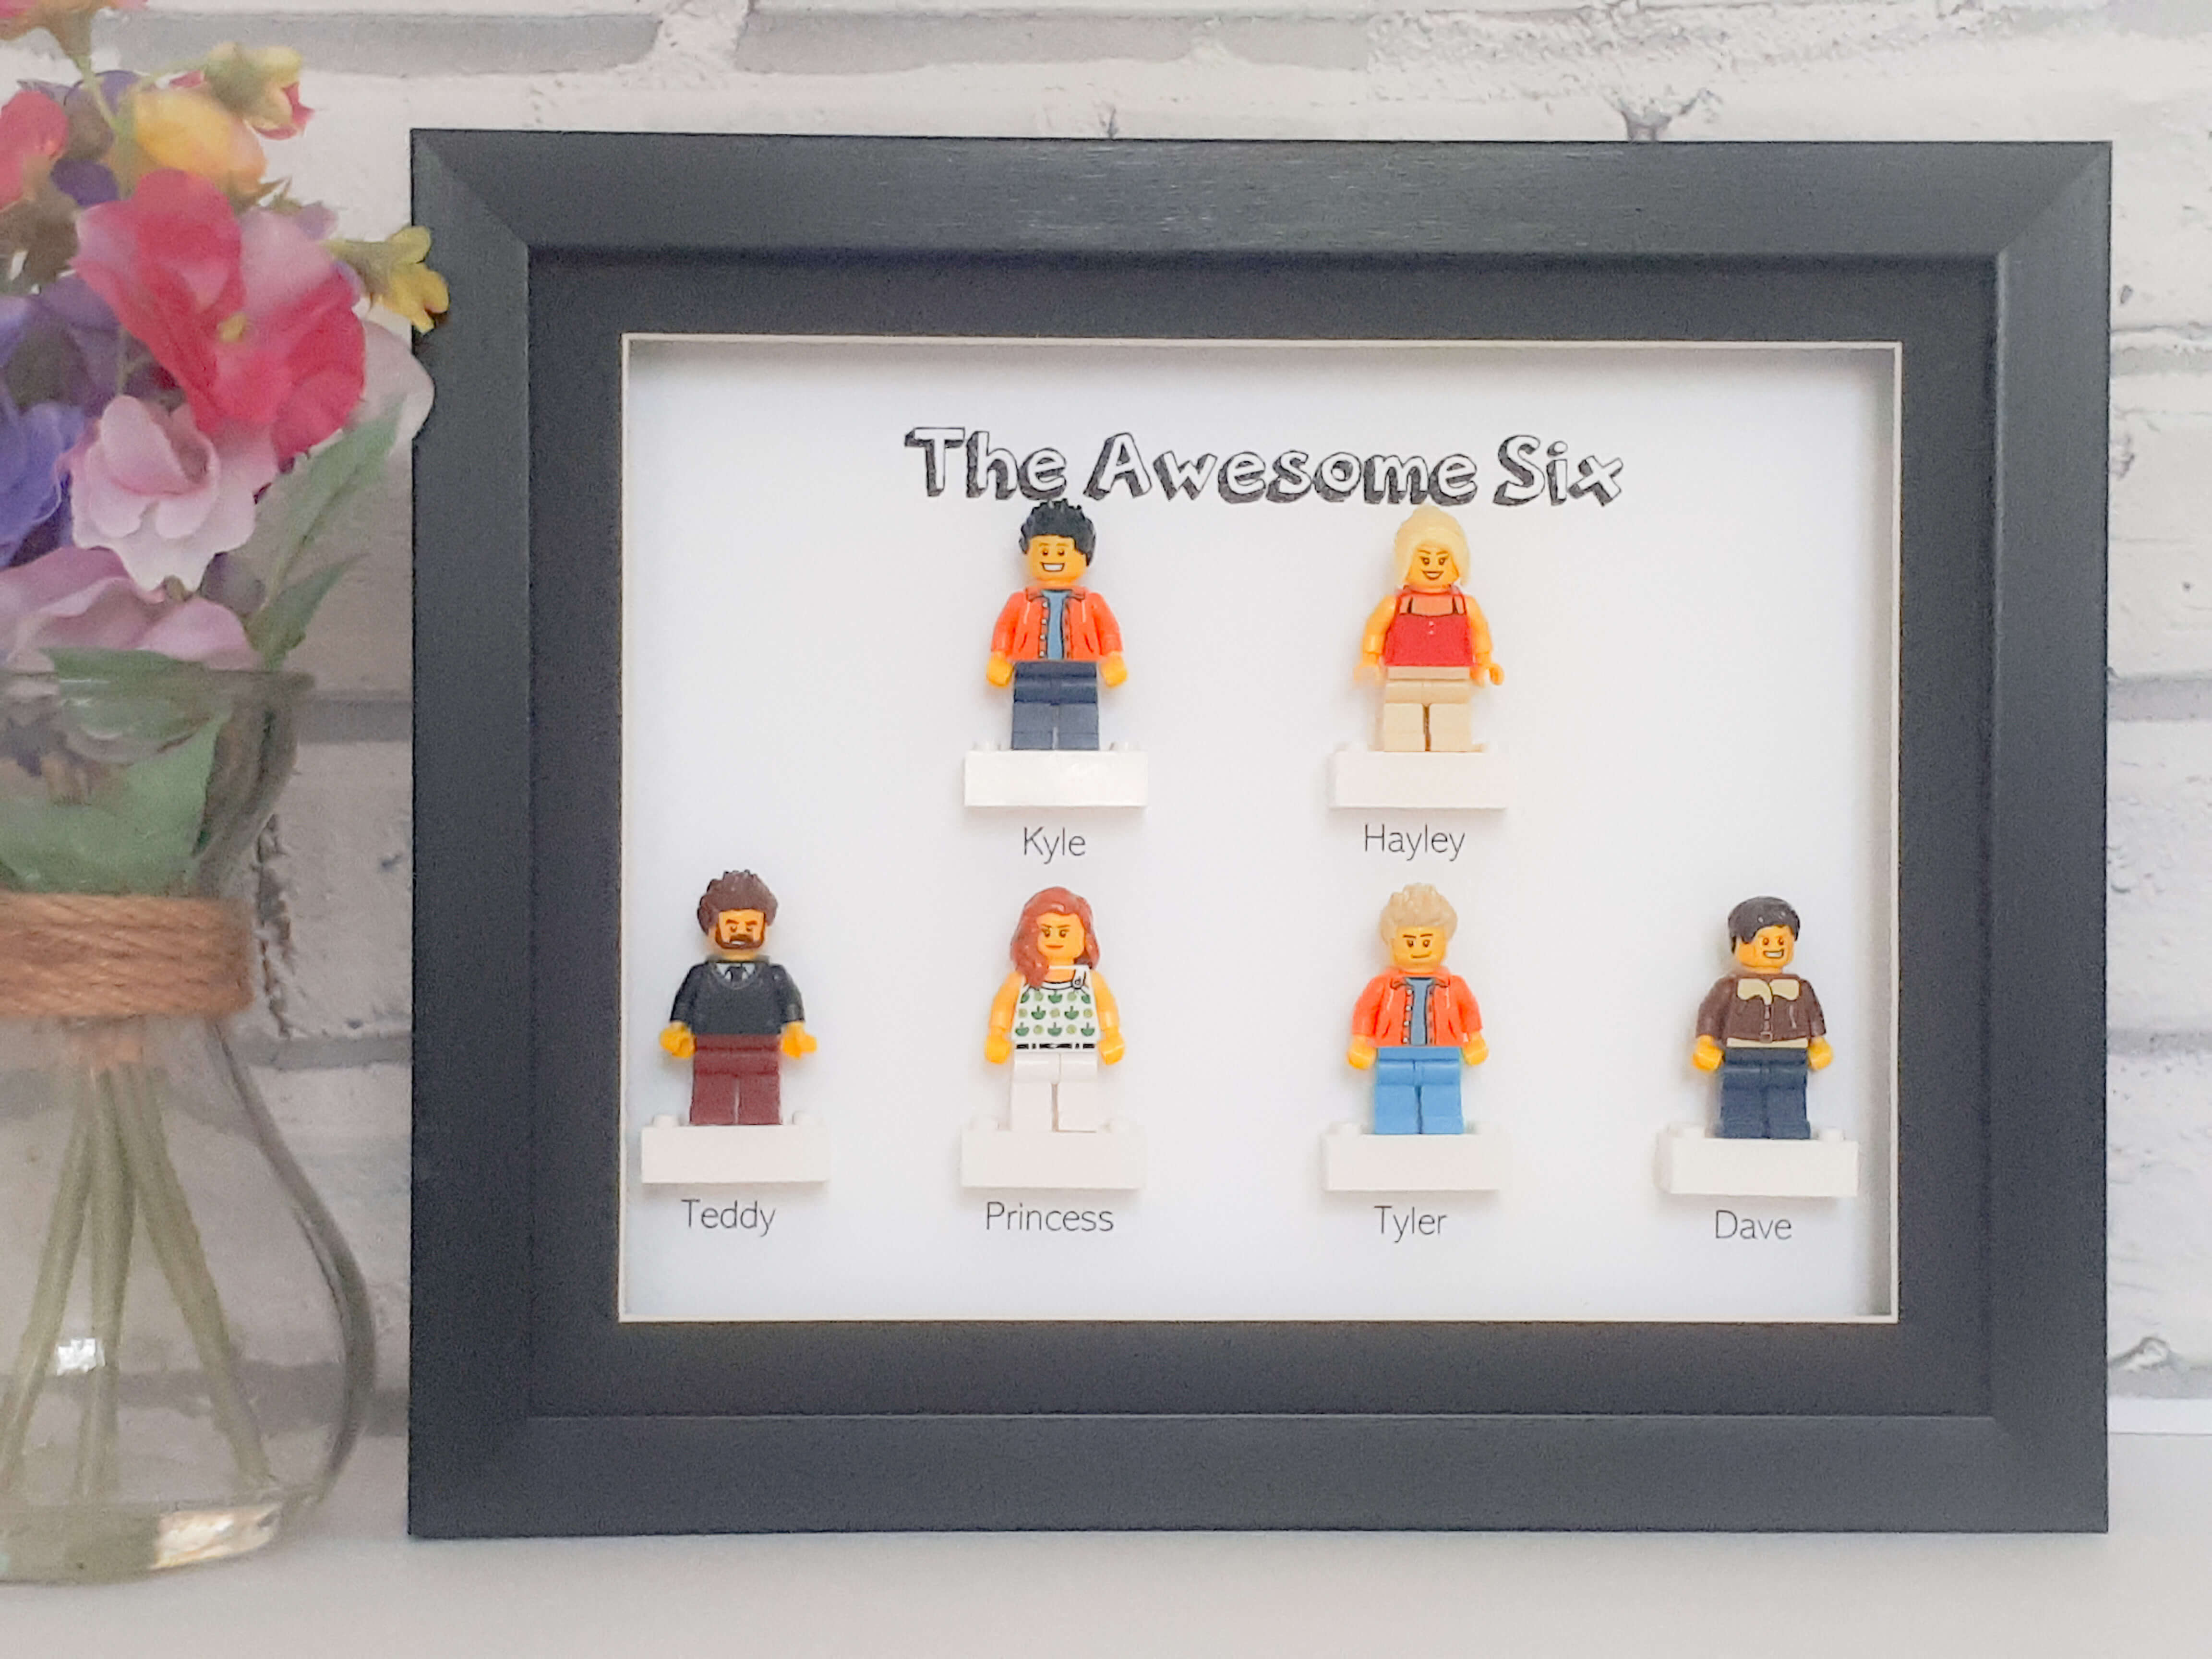foto: (357, 143, 2139, 1579)
